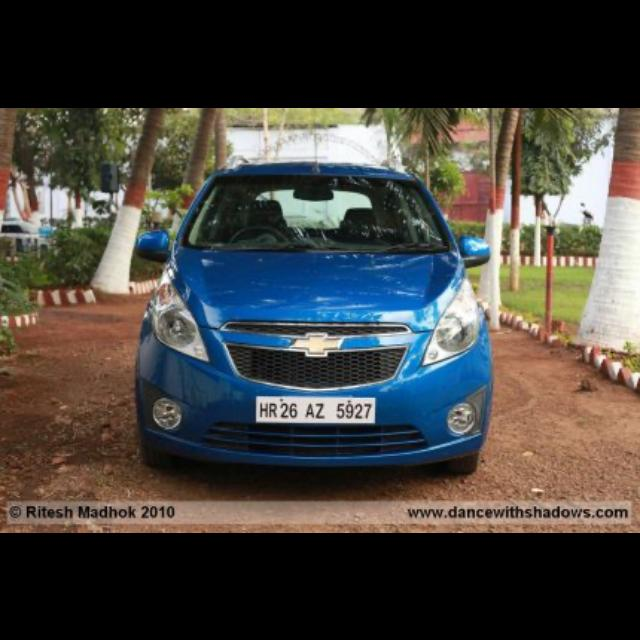carPlate: (256, 395, 374, 421)
